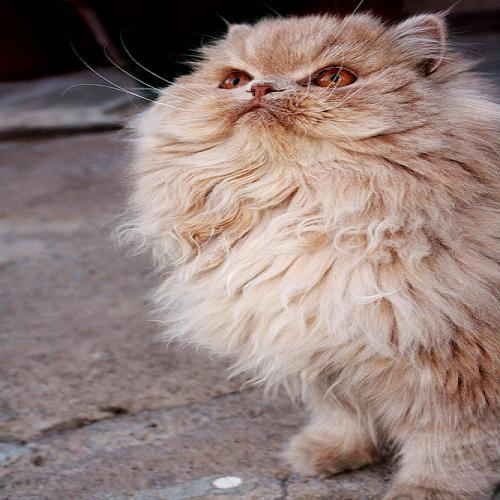persian: (114, 8, 500, 188)
